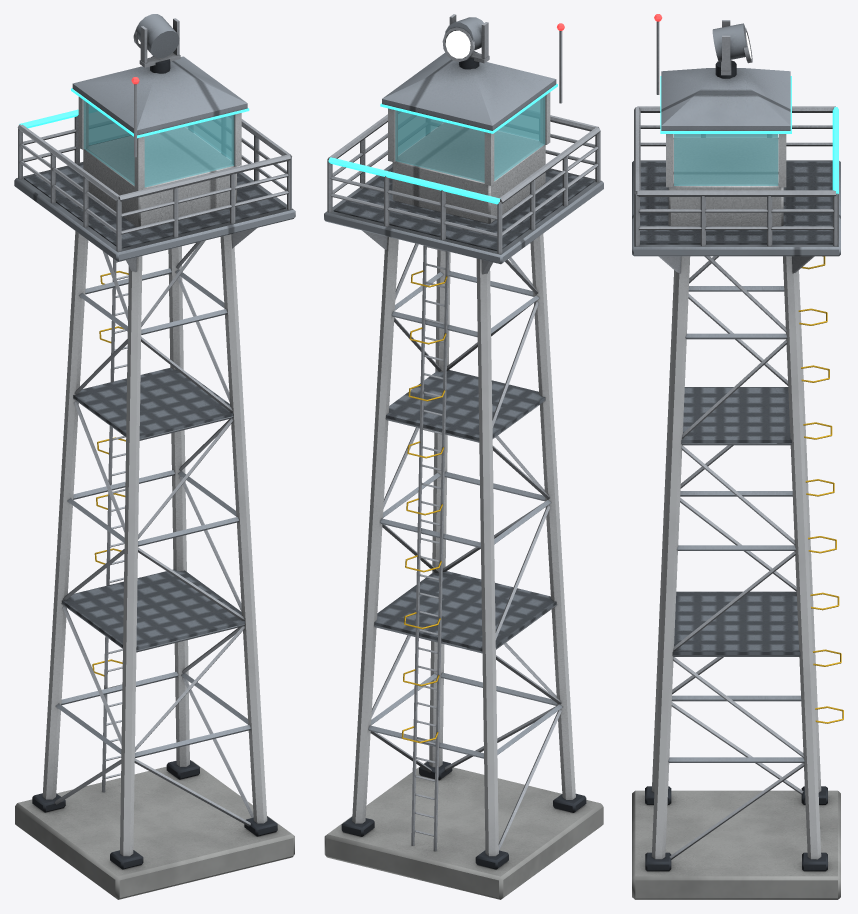
File: torre_vigilancia.fbx
3 renders of one model, left to right at view 1: azimuth 30°, elevation 25°; view 2: azimuth 150°, elevation 25°; view 3: azimuth 270°, elevation 25°, orthographic.
Visible parts, largest first — view 1: torre_vigilancia, torre_vigilancia_cristal, torre_vigilancia_foco, torre_vigilancia_neon; view 2: torre_vigilancia, torre_vigilancia_cristal, torre_vigilancia_neon, torre_vigilancia_foco, torre_vigilancia_foco_neon; view 3: torre_vigilancia, torre_vigilancia_cristal, torre_vigilancia_foco, torre_vigilancia_neon.
Boxes of the visible parts, <box> form: torre_vigilancia: <box>14,56,295,899</box>; torre_vigilancia_cristal: <box>83,100,234,187</box>; torre_vigilancia_foco: <box>133,14,180,67</box>; torre_vigilancia_neon: <box>19,88,249,138</box>; torre_vigilancia: <box>324,31,603,899</box>; torre_vigilancia_cristal: <box>395,96,545,182</box>; torre_vigilancia_neon: <box>328,84,557,204</box>; torre_vigilancia_foco: <box>442,14,489,63</box>; torre_vigilancia_foco_neon: <box>445,30,470,58</box>; torre_vigilancia: <box>632,21,843,899</box>; torre_vigilancia_cristal: <box>673,134,778,185</box>; torre_vigilancia_foco: <box>712,20,752,75</box>; torre_vigilancia_neon: <box>660,76,838,193</box>.
Bounding box in the file's own units: 4 × 17.57 × 4.05.
Materials: 3 (3 with a texture image).
